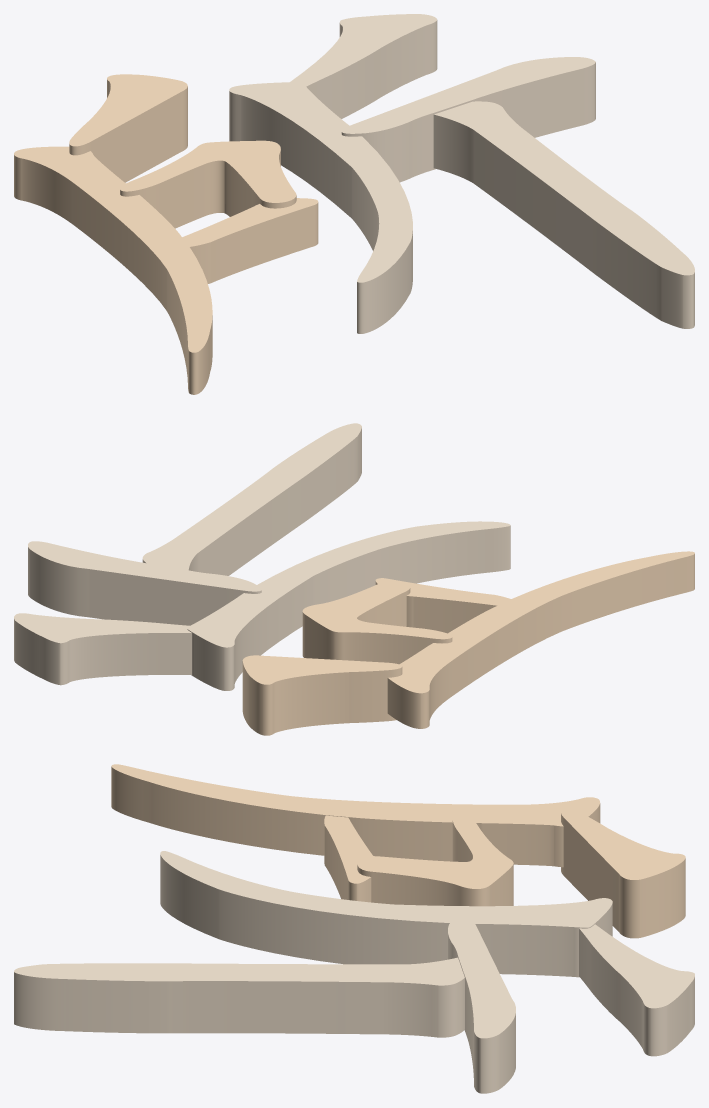
Rendered from hanzi144.fbx.
3 views of the same model, one above another, from view 1: azimuth 30°, elevation 25°; view 2: azimuth 150°, elevation 25°; view 3: azimuth 270°, elevation 25° (orthographic). The views are drawn at different scales.
Visible parts, largest first — view 1: Curve.007, Curve.005, Curve.001, Curve.006, Curve.002, Curve.004, Curve, Curve.003; view 2: Curve.005, Curve.001, Curve.007, Curve.006, Curve.004, Curve, Curve.002, Curve.003; view 3: Curve.007, Curve.005, Curve.001, Curve, Curve.004, Curve.002, Curve.006, Curve.003.
Boxes of the visible parts, x1,y1,x2,y2 form: Curve.007: [433, 101, 694, 328]; Curve.005: [229, 82, 412, 333]; Curve.001: [14, 146, 212, 394]; Curve.006: [341, 57, 595, 182]; Curve.002: [120, 140, 296, 228]; Curve.004: [290, 14, 437, 118]; Curve: [69, 74, 187, 182]; Curve.003: [182, 198, 318, 283]; Curve.005: [187, 521, 510, 690]; Curve.001: [387, 551, 694, 728]; Curve.007: [142, 423, 361, 575]; Curve.006: [28, 541, 261, 625]; Curve.004: [14, 613, 191, 685]; Curve: [242, 655, 402, 735]; Curve.002: [302, 580, 452, 664]; Curve.003: [375, 578, 510, 633]; Curve.007: [14, 957, 464, 1037]; Curve.005: [160, 851, 612, 977]; Curve.001: [111, 764, 600, 867]; Curve: [561, 809, 685, 938]; Curve.004: [579, 924, 694, 1056]; Curve.002: [357, 810, 513, 906]; Curve.006: [448, 914, 515, 1093]; Curve.003: [324, 815, 372, 902].
Bounding box in the file's own units: 24.68 × 25.24 × 2.39.
